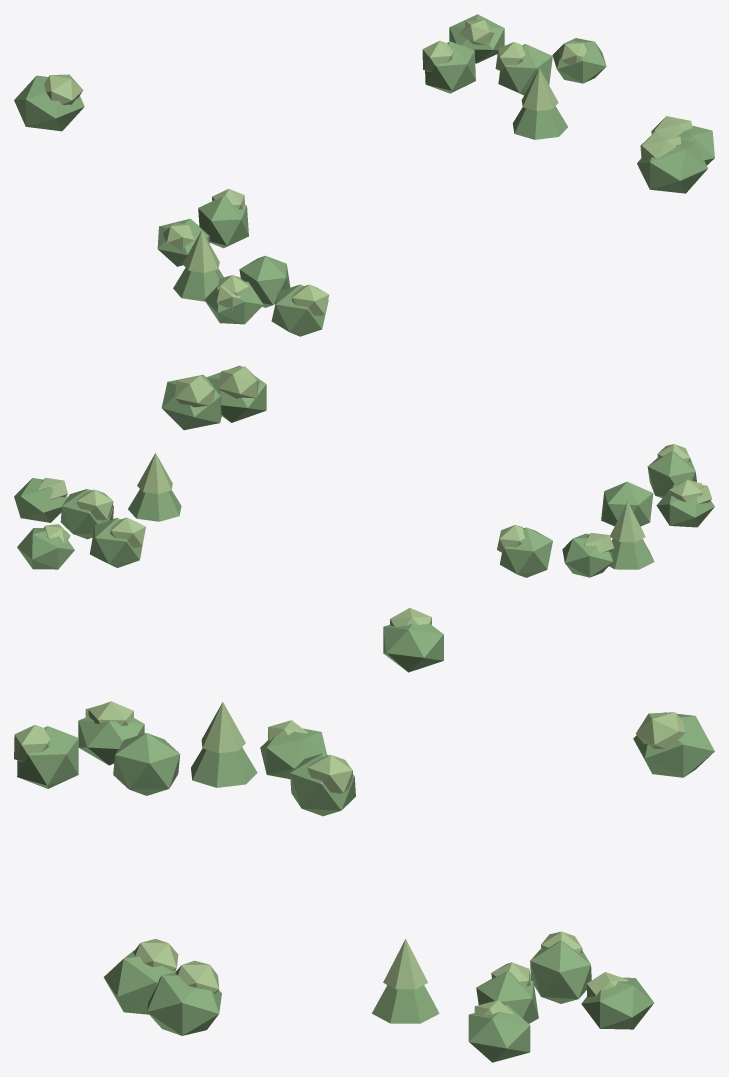
Rendered from overgrown_causeway_gate_wind_canopies.fbx.
3 renders of one model, top to bottom at view 1: azimuth 30°, elevation 25°; view 2: azimuth 150°, elevation 25°; view 3: azimuth 270°, elevation 25°, orthographic. The views are drawn at different scales.
Visible parts, largest first — view 1: chunk_overgrown_causeway_gate__tree_canopy_22, chunk_overgrown_causeway_gate__tree_canopy_11, chunk_overgrown_causeway_gate__tree_canopy_13, chunk_overgrown_causeway_gate__tree_canopy_16, chunk_overgrown_causeway_gate__tree_canopy_10, chunk_overgrown_causeway_gate__tree_canopy_08, chunk_overgrown_causeway_gate__tree_canopy_24, chunk_overgrown_causeway_gate__tree_canopy_17, chunk_overgrown_causeway_gate__tree_canopy_28, chunk_overgrown_causeway_gate__tree_canopy_03, chunk_overgrown_causeway_gate__tree_canopy_23, chunk_overgrown_causeway_gate__tree_canopy_05 (+12 smaller); view 2: chunk_overgrown_causeway_gate__tree_canopy_11, chunk_overgrown_causeway_gate__tree_canopy_13, chunk_overgrown_causeway_gate__tree_canopy_10, chunk_overgrown_causeway_gate__tree_canopy_26, chunk_overgrown_causeway_gate__tree_canopy_23, chunk_overgrown_causeway_gate__tree_canopy_28, chunk_overgrown_causeway_gate__tree_canopy_16, chunk_overgrown_causeway_gate__tree_canopy_08, chunk_overgrown_causeway_gate__tree_canopy_07, chunk_overgrown_causeway_gate__tree_canopy_03, chunk_overgrown_causeway_gate__tree_canopy_22, chunk_overgrown_causeway_gate__tree_canopy_17 (+11 smaller); view 3: chunk_overgrown_causeway_gate__tree_canopy_26, chunk_overgrown_causeway_gate__tree_canopy_10, chunk_overgrown_causeway_gate__tree_canopy_16, chunk_overgrown_causeway_gate__tree_canopy_28, chunk_overgrown_causeway_gate__tree_canopy_11, chunk_overgrown_causeway_gate__tree_canopy_23, chunk_overgrown_causeway_gate__tree_canopy_08, chunk_overgrown_causeway_gate__tree_canopy_22, chunk_overgrown_causeway_gate__tree_canopy_07, chunk_overgrown_causeway_gate__tree_canopy_13, chunk_overgrown_causeway_gate__tree_canopy_05, chunk_overgrown_causeway_gate__tree_canopy_03 (+10 smaller).
Boxes of the visible parts, x1,y1,x2,y2 form: chunk_overgrown_causeway_gate__tree_canopy_22: (637, 140, 707, 193); chunk_overgrown_causeway_gate__tree_canopy_11: (14, 75, 84, 131); chunk_overgrown_causeway_gate__tree_canopy_13: (198, 196, 248, 248); chunk_overgrown_causeway_gate__tree_canopy_16: (425, 41, 475, 93); chunk_overgrown_causeway_gate__tree_canopy_10: (239, 255, 290, 307); chunk_overgrown_causeway_gate__tree_canopy_08: (271, 284, 328, 336); chunk_overgrown_causeway_gate__tree_canopy_24: (498, 44, 552, 95); chunk_overgrown_causeway_gate__tree_canopy_17: (512, 106, 567, 139); chunk_overgrown_causeway_gate__tree_canopy_28: (552, 38, 606, 83); chunk_overgrown_causeway_gate__tree_canopy_03: (204, 281, 263, 324); chunk_overgrown_causeway_gate__tree_canopy_23: (449, 14, 504, 63); chunk_overgrown_causeway_gate__tree_canopy_05: (173, 268, 223, 301); chunk_overgrown_causeway_gate__tree_canopy_11: (383, 623, 443, 672); chunk_overgrown_causeway_gate__tree_canopy_13: (499, 527, 552, 577); chunk_overgrown_causeway_gate__tree_canopy_10: (601, 481, 653, 526); chunk_overgrown_causeway_gate__tree_canopy_26: (161, 374, 221, 430); chunk_overgrown_causeway_gate__tree_canopy_23: (17, 528, 74, 569); chunk_overgrown_causeway_gate__tree_canopy_28: (14, 478, 67, 522); chunk_overgrown_causeway_gate__tree_canopy_16: (90, 517, 142, 567); chunk_overgrown_causeway_gate__tree_canopy_08: (647, 451, 696, 498); chunk_overgrown_causeway_gate__tree_canopy_07: (562, 533, 612, 577); chunk_overgrown_causeway_gate__tree_canopy_03: (656, 484, 714, 527); chunk_overgrown_causeway_gate__tree_canopy_22: (207, 365, 266, 422); chunk_overgrown_causeway_gate__tree_canopy_17: (128, 489, 181, 521); chunk_overgrown_causeway_gate__tree_canopy_26: (147, 972, 221, 1035); chunk_overgrown_causeway_gate__tree_canopy_10: (113, 733, 179, 795); chunk_overgrown_causeway_gate__tree_canopy_16: (530, 941, 591, 1003); chunk_overgrown_causeway_gate__tree_canopy_28: (468, 1004, 530, 1062); chunk_overgrown_causeway_gate__tree_canopy_11: (633, 712, 714, 777); chunk_overgrown_causeway_gate__tree_canopy_23: (581, 977, 653, 1029); chunk_overgrown_causeway_gate__tree_canopy_08: (17, 726, 78, 788); chunk_overgrown_causeway_gate__tree_canopy_22: (103, 950, 176, 1014); chunk_overgrown_causeway_gate__tree_canopy_07: (260, 728, 326, 778); chunk_overgrown_causeway_gate__tree_canopy_13: (290, 753, 355, 816); chunk_overgrown_causeway_gate__tree_canopy_05: (191, 747, 257, 787); chunk_overgrown_causeway_gate__tree_canopy_03: (78, 717, 144, 765).
Bounding box in the file's own units: 200 × 25.54 × 181.
